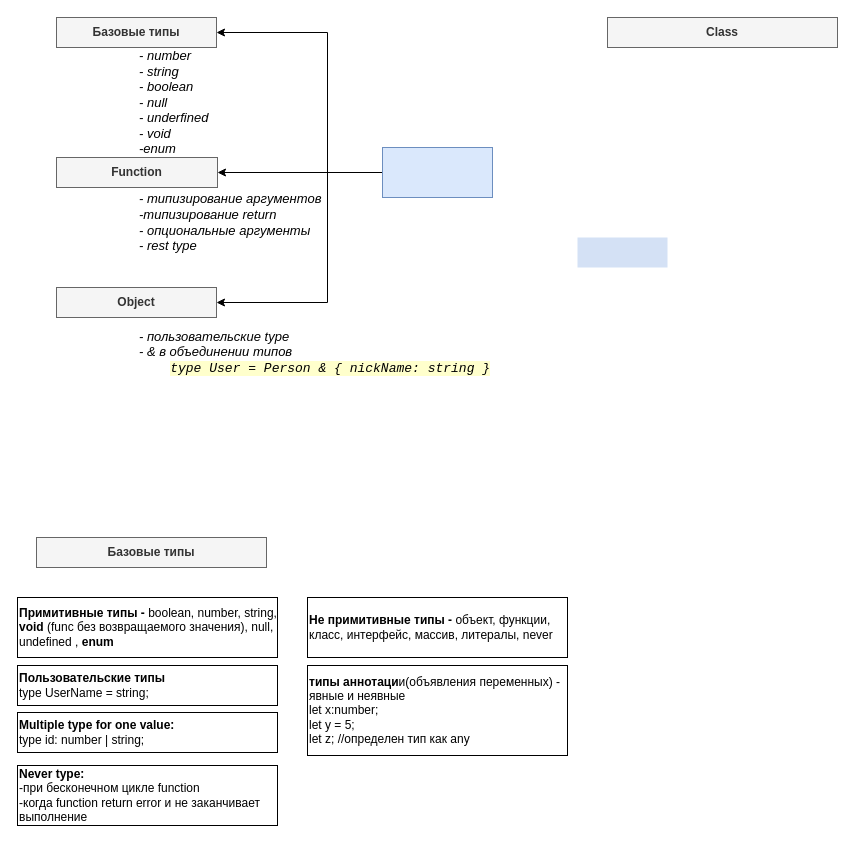
Some shapes in this 855 by 843 pixel diagram are drawn without their labels. Each missing label, with the centre of its shape:
"Generic" goes at point (622, 252).
"TypeScript" goes at point (437, 172).
